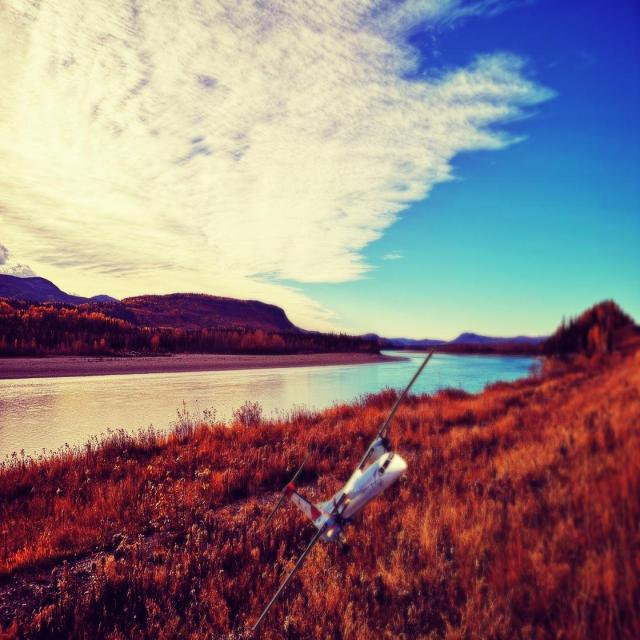airplane: (250, 345, 436, 636)
